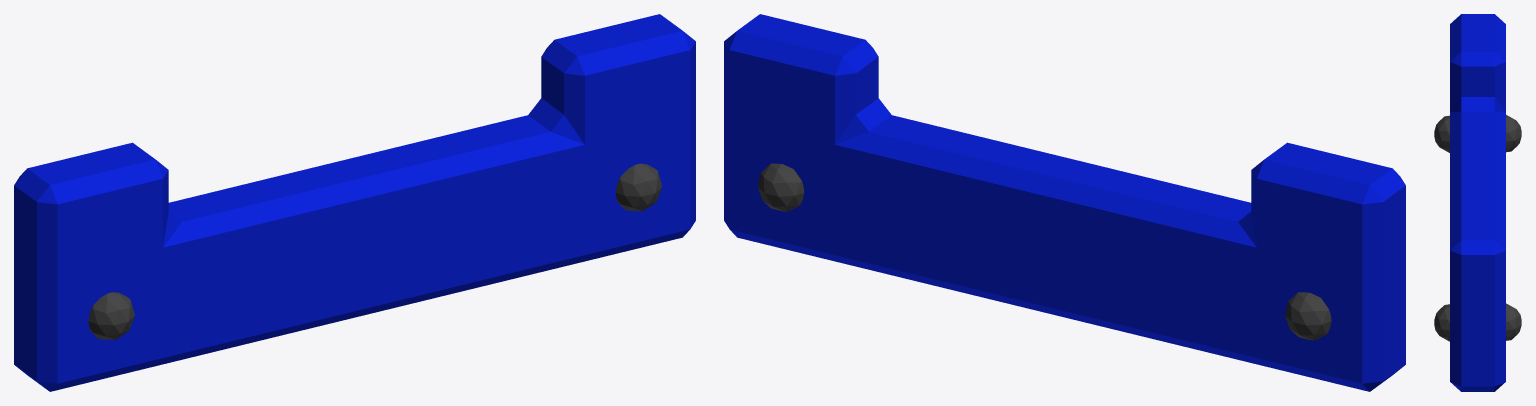
Rendered from BarBracketA.fbx.
The picture shows the model from 3 angles, left to right: view 1: azimuth 30°, elevation 25°; view 2: azimuth 150°, elevation 25°; view 3: azimuth 270°, elevation 25°; orthographic projection. The views are drawn at different scales.
Parts seen in each view (by area): view 1: BarA; view 2: BarA; view 3: BarA.
Part boxes in pixels (bbox=[...]): BarA: bbox=[14, 14, 695, 391]; BarA: bbox=[724, 14, 1405, 391]; BarA: bbox=[1434, 14, 1521, 391].
Bounding box in the file's own units: 1000 × 300 × 157.
